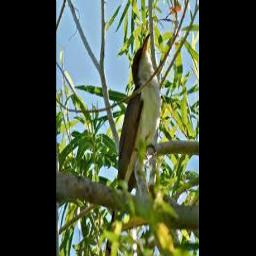Cuckoo: (104, 33, 161, 256)
